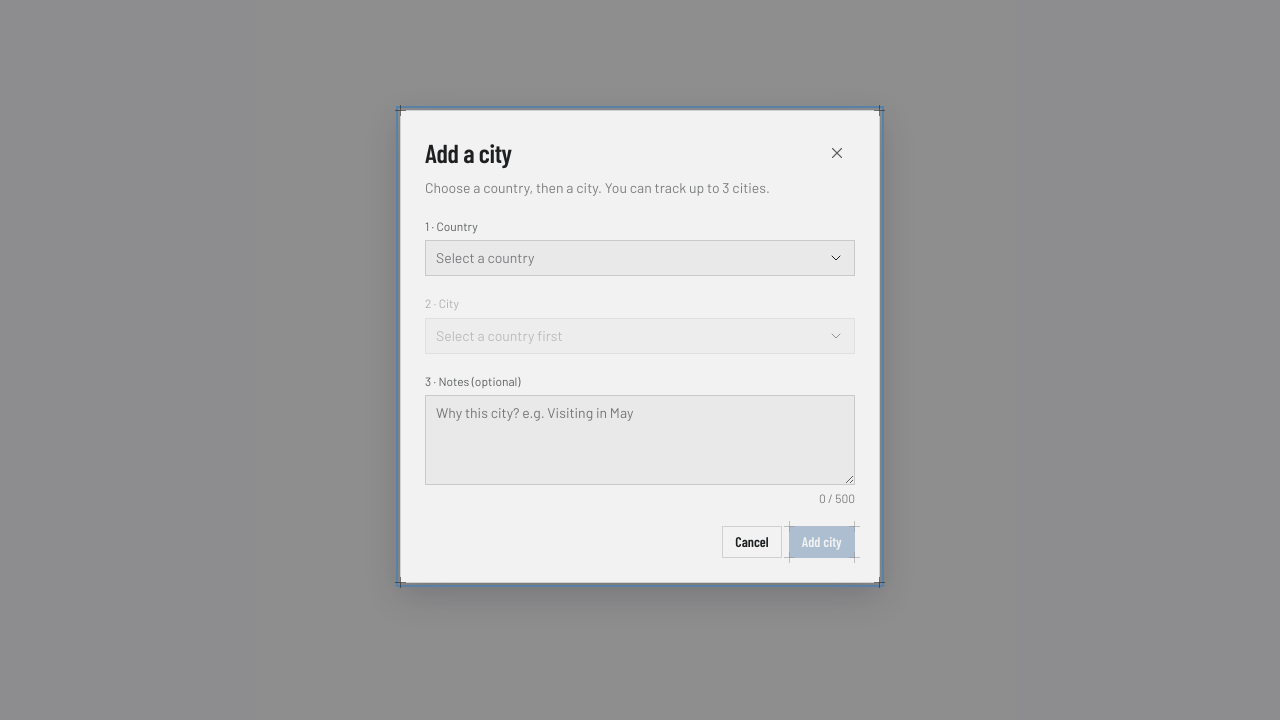
it: AddCityDialog › warns instead of adding when the limit is reached
Click the button named "1 · Country" at (485, 258), box [425,240,855,276]
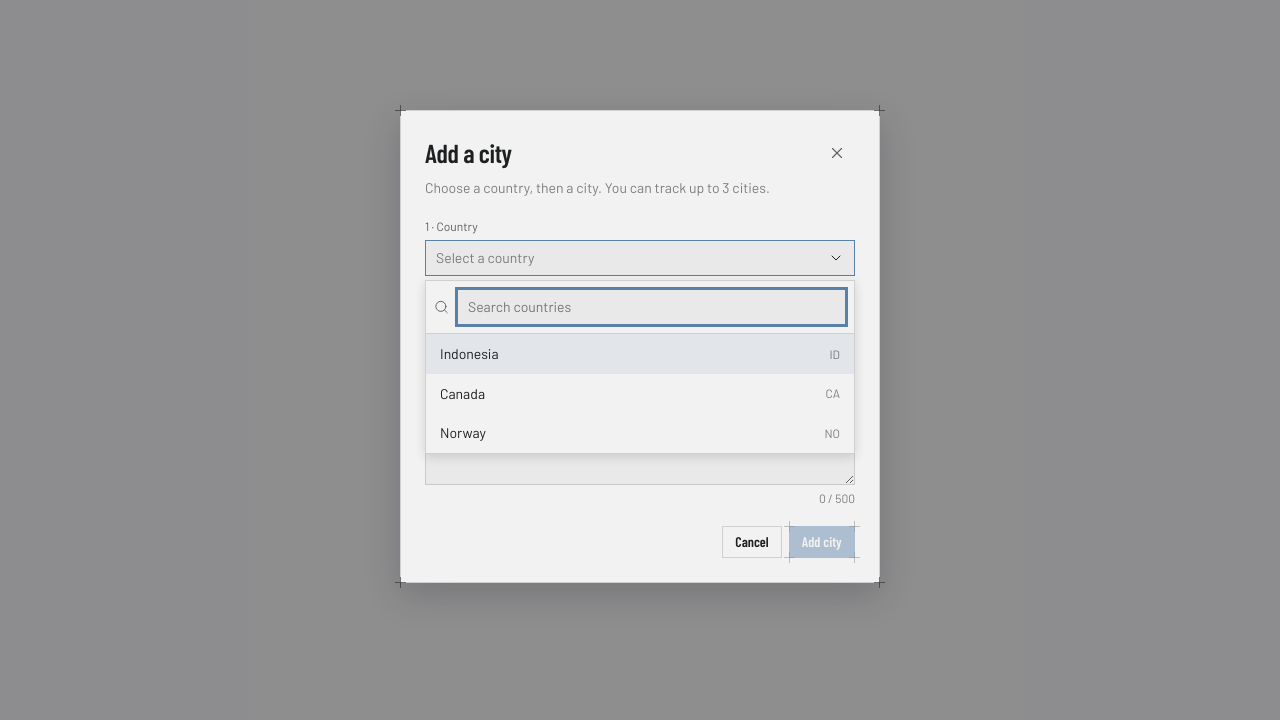
Click the option "Indonesia ID" at (469, 353), box [426,334,854,374]
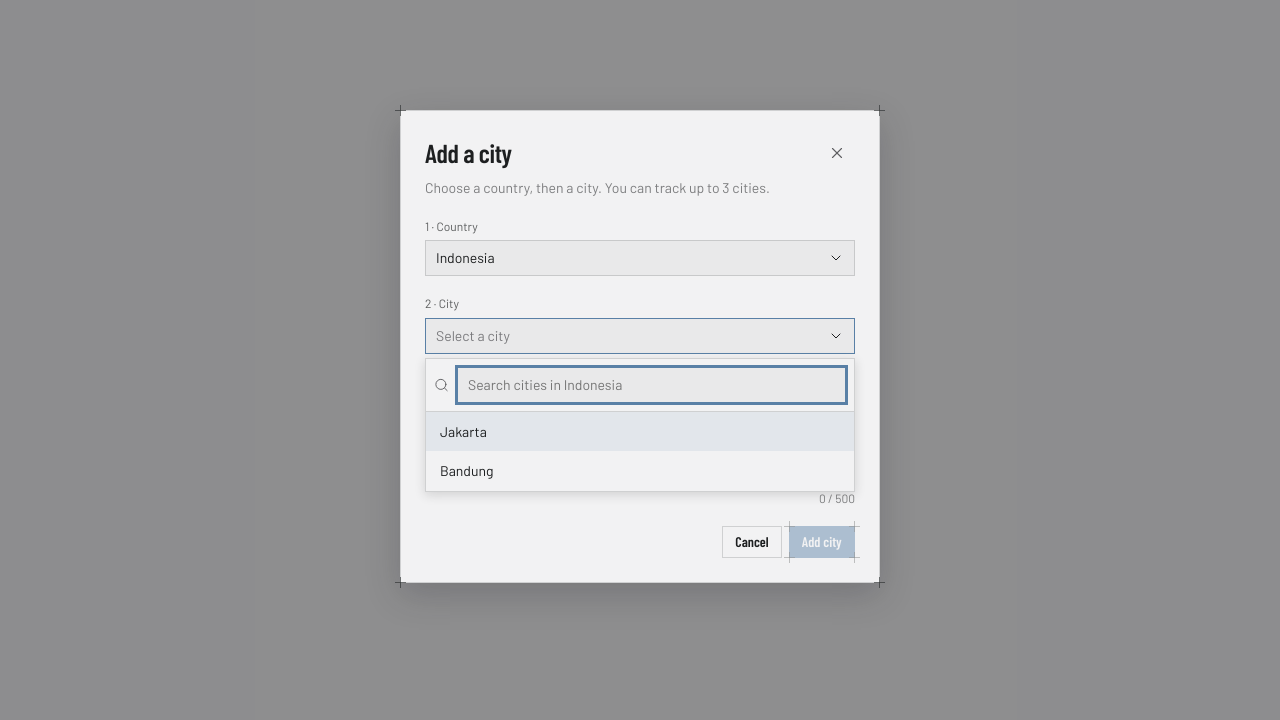
Click the option "Jakarta" at (463, 431), box [426,412,854,451]
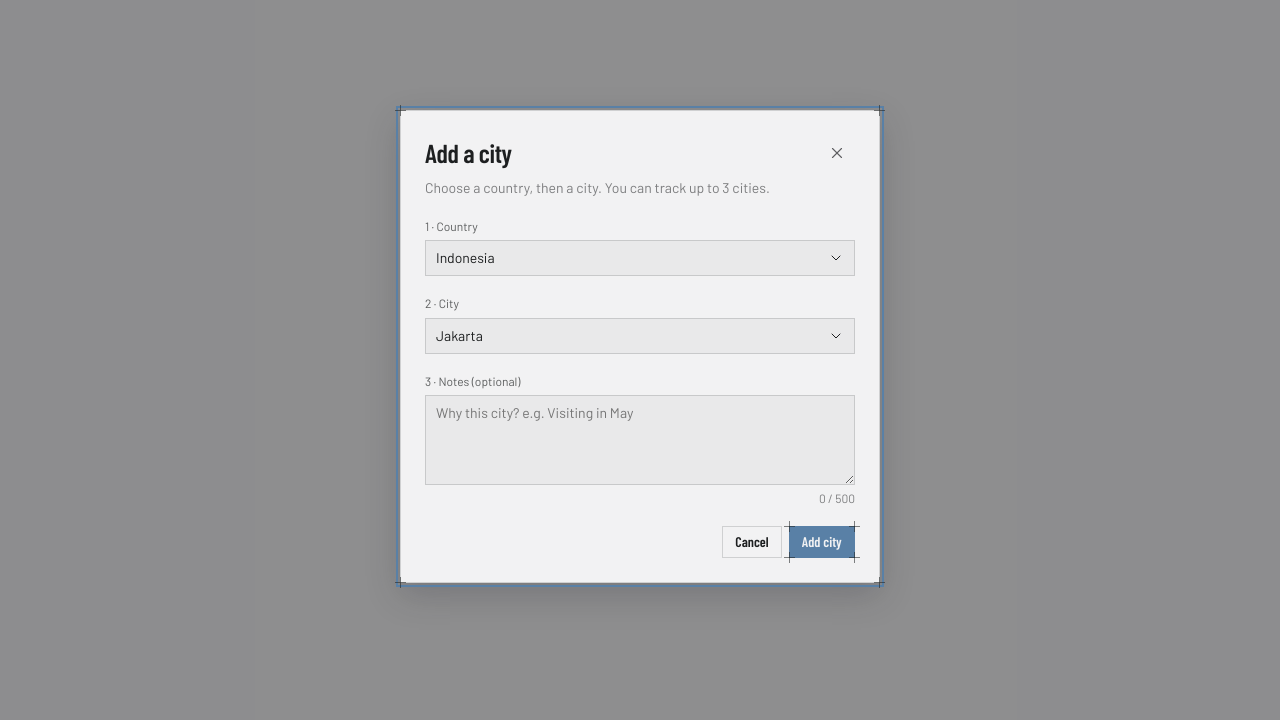
Click the button "Add city" at (822, 542), box [789,526,855,558]
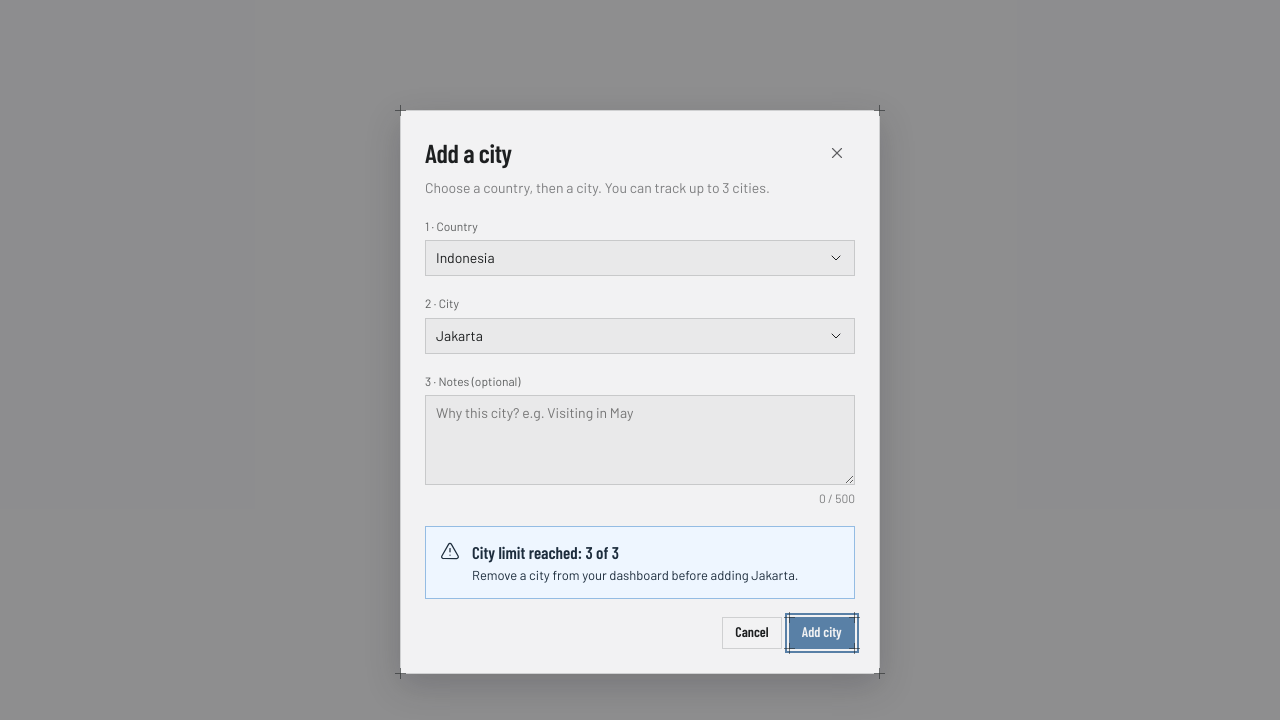
Now the message shows "City limit reached: 3 of 3", box [425,526,855,599]
Now the message shows "before adding Jakarta", box [425,526,855,599]
